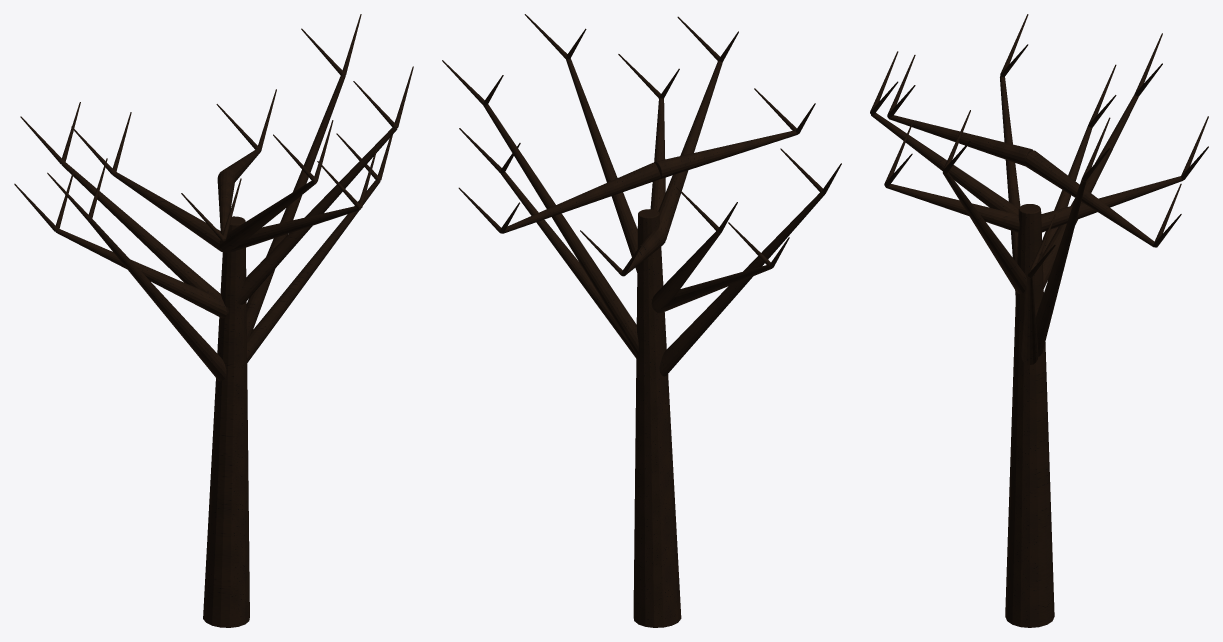
File: PROP-B3FCEFD77653_lod0.glb
The picture shows the model from 3 angles, left to right: view 1: azimuth 30°, elevation 25°; view 2: azimuth 150°, elevation 25°; view 3: azimuth 270°, elevation 25°; orthographic projection. The views are drawn at different scales.
Parts seen in each view (by area): view 1: branch.007, trunk.019, bare_twigs.001; view 2: branch.007, trunk.019, bare_twigs.001; view 3: branch.007, trunk.019, bare_twigs.001.
Part boxes in pixels (left/top/right/bottom): branch.007: left=56, top=75, right=397, bottom=381; trunk.019: left=203, top=216, right=249, bottom=627; bare_twigs.001: left=14, top=14, right=413, bottom=240; branch.007: left=483, top=58, right=824, bottom=376; trunk.019: left=633, top=209, right=681, bottom=627; bare_twigs.001: left=442, top=14, right=841, bottom=276; branch.007: left=871, top=76, right=1183, bottom=364; trunk.019: left=1005, top=204, right=1054, bottom=627; bare_twigs.001: left=870, top=14, right=1208, bottom=277.
Size of the model in its own units: 4.24 by 5.97 by 3.29.
Materials: 1 (1 with a texture image).
